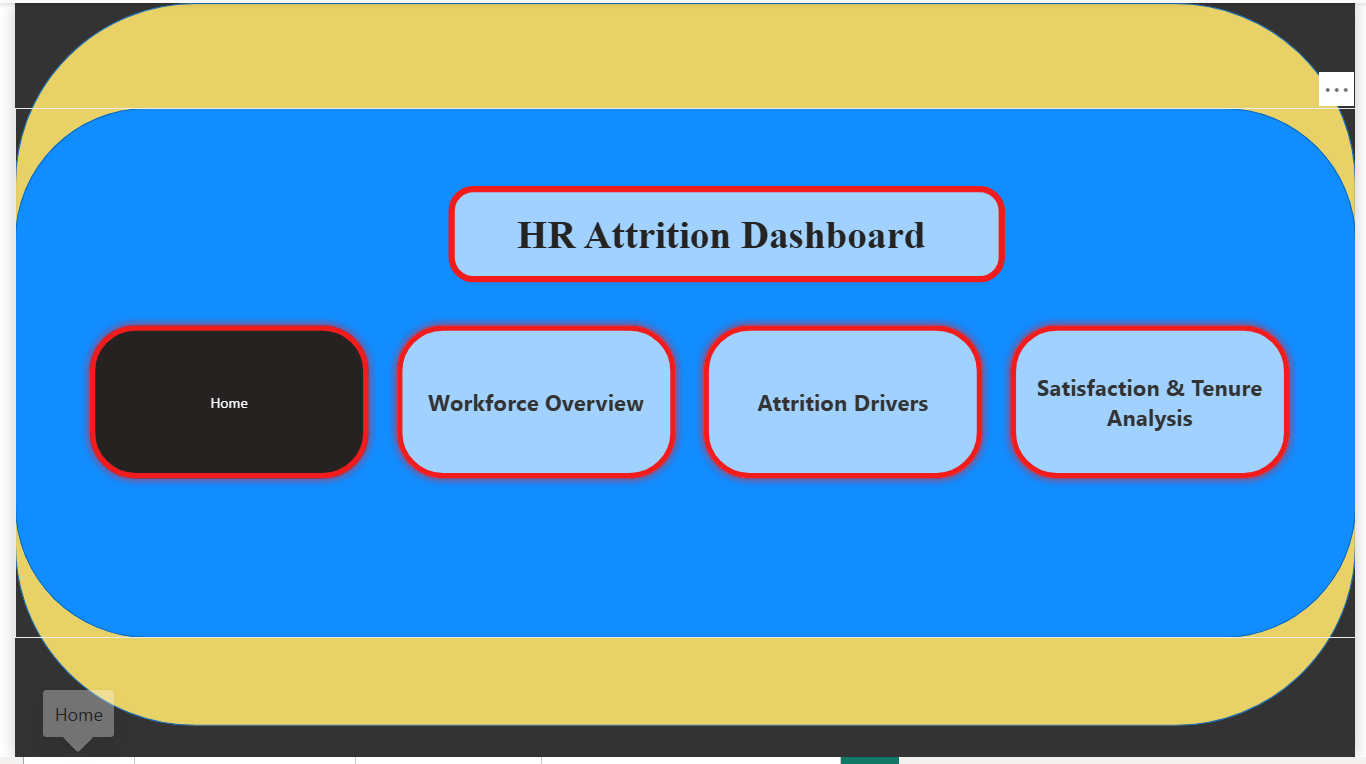

What the dashboard file says about the page in this screenshot:
{"tool":"powerbi","page":{"name":"Home","canvas":[1280,720],"ordinal":0},"visuals":[{"type":"shape","box":[0,0,1280.4,690.3],"z":0},{"type":"shape","box":[0,100.2,1280.4,505.8],"z":500},{"type":"pageNavigator","box":[63.1,299.6,1162.6,163.5],"z":1000},{"type":"textbox","box":[413.6,175,531.3,92.3],"z":2000}]}

Visuals, with their boxes in screenshot pixels (x1, y1, x2, y2):
shape: 11/0/1352/723
shape: 11/105/1352/635
pageNavigator: 77/314/1295/485
textbox: 444/183/1001/280
